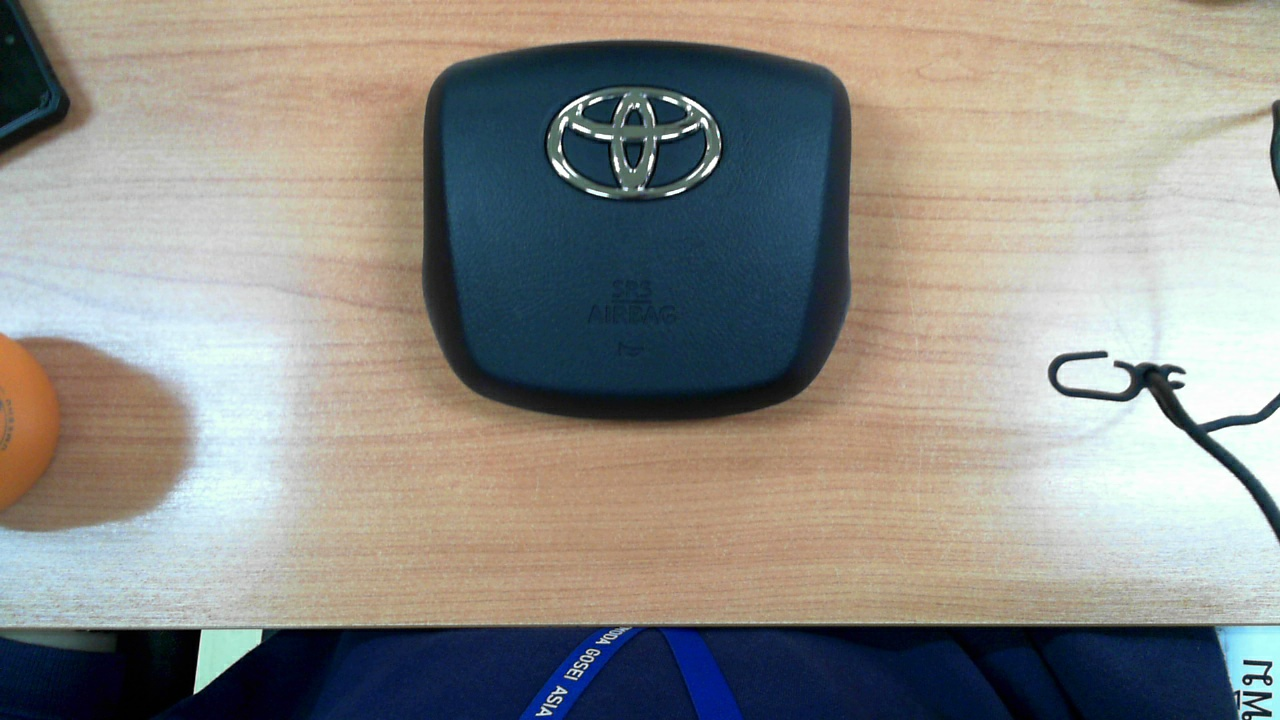Airbag: (393, 15, 879, 431)
